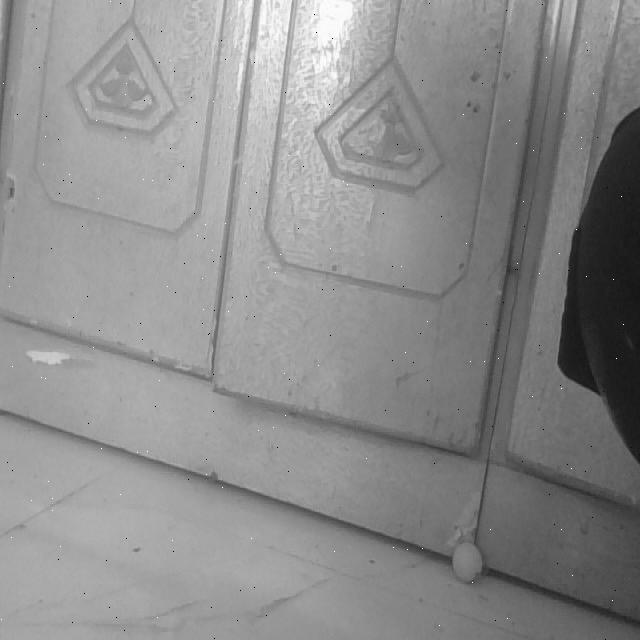ping-pong-ball: (453, 544, 482, 584)
